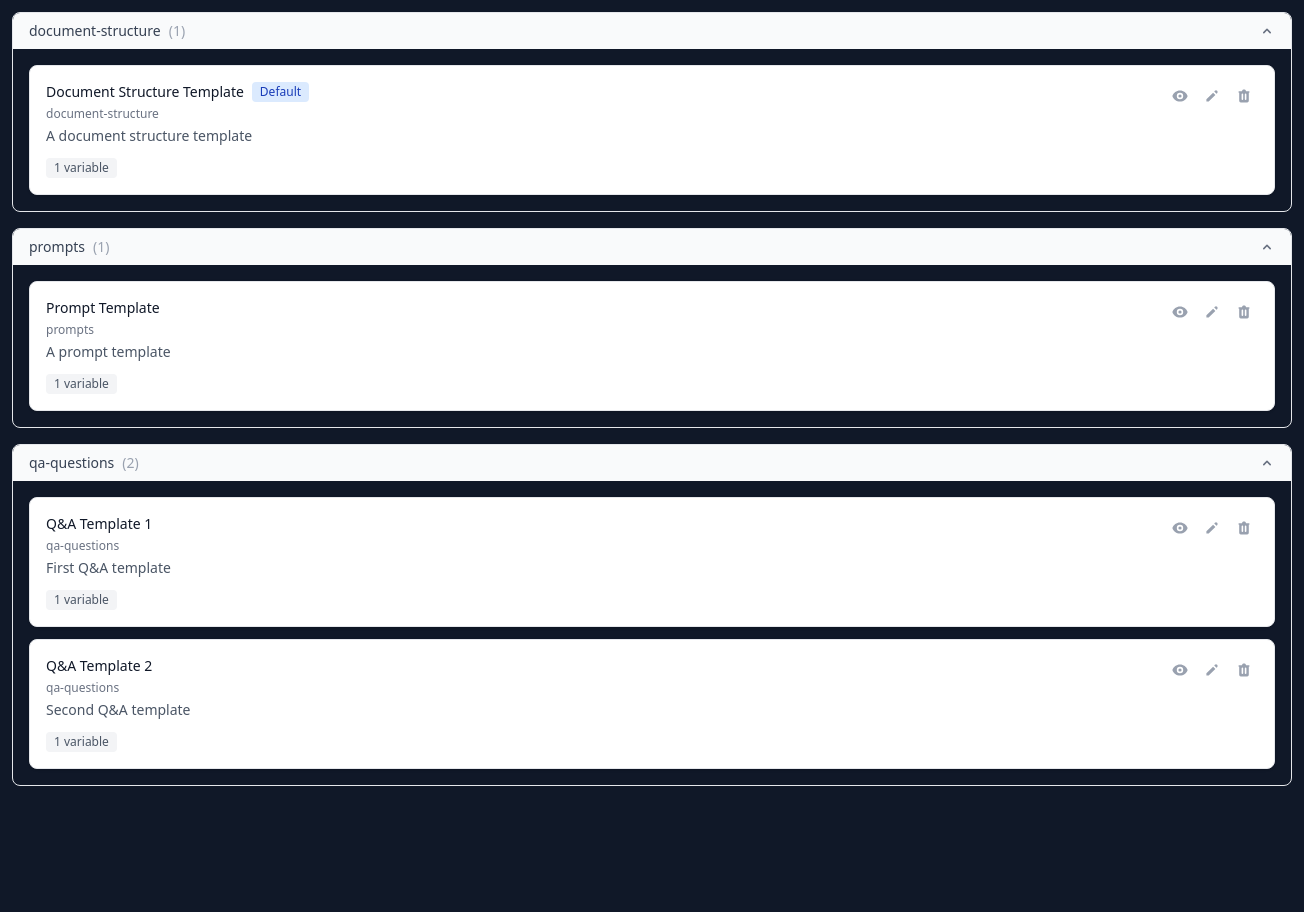
Scenario: TemplateList › collapse/expand › should collapse category when header clicked
Note: Click qa-questions category header
What coordinates should you click on to do the following:
click the button "qa-questions(2)"
I would click on:
 (72, 462)
Its box is [13,445,1291,481].
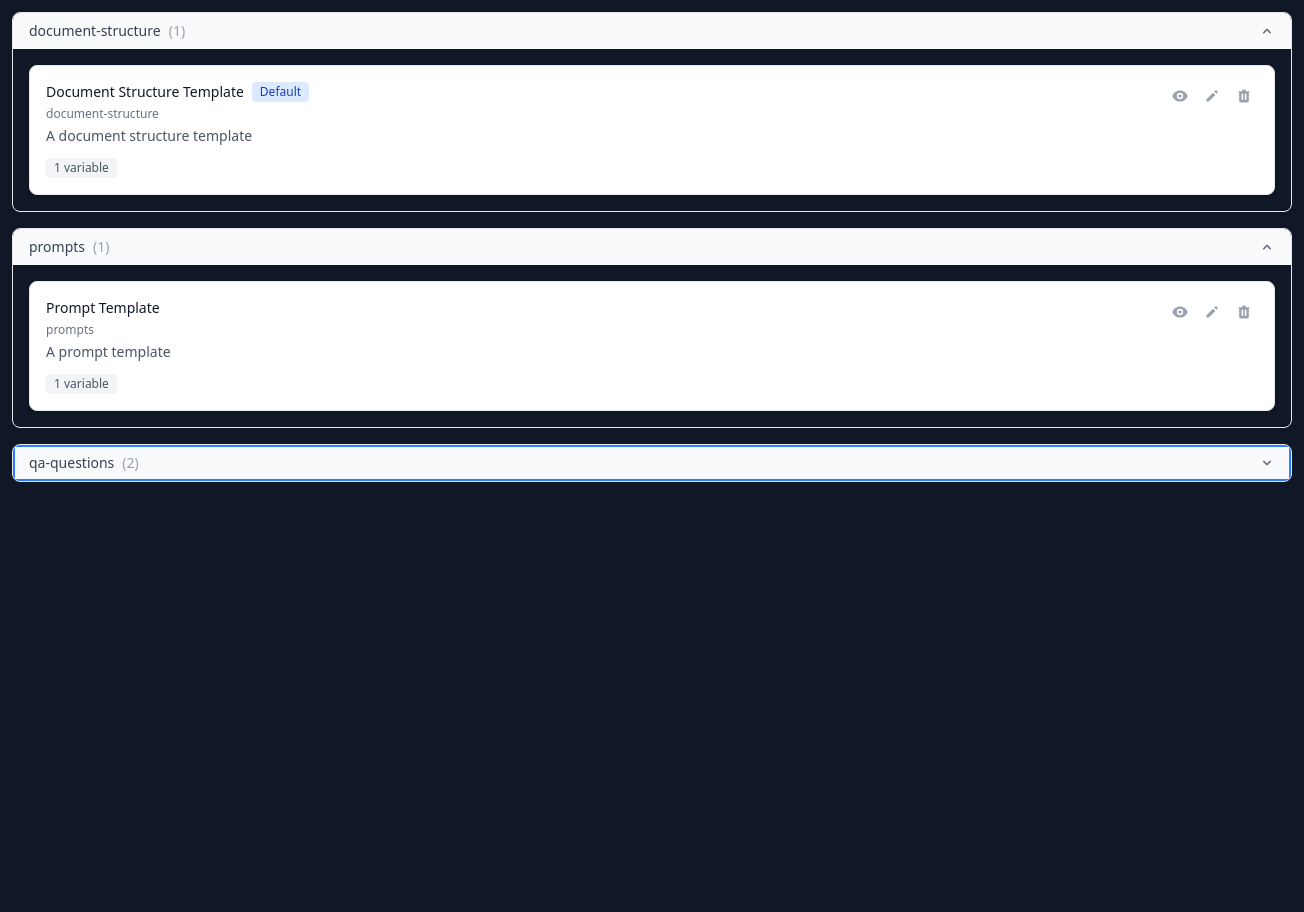
Expected: the heading "Document Structure Template" is shown, [46,82,244,102]
Now the heading "Q&A Template 1" is gone
Now the heading "Q&A Template 2" is gone
